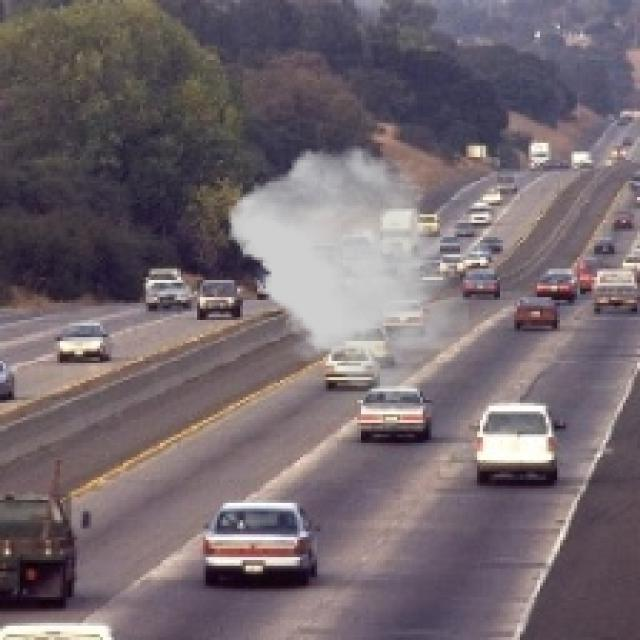Smoke: (228, 146, 468, 388)
